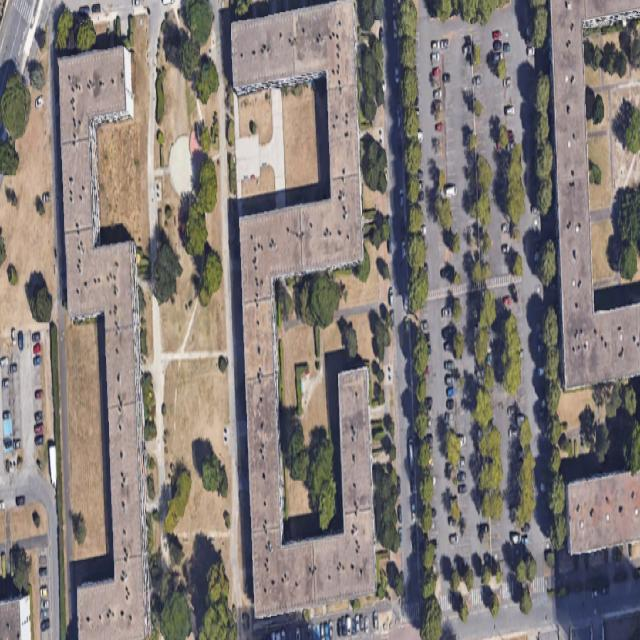immeuble: (101, 241, 151, 638), (239, 214, 285, 620), (241, 528, 387, 619), (229, 192, 374, 283), (221, 0, 366, 88), (57, 50, 101, 320), (322, 1, 364, 270), (336, 368, 378, 601), (55, 47, 134, 127), (63, 242, 139, 323), (77, 571, 151, 635)
